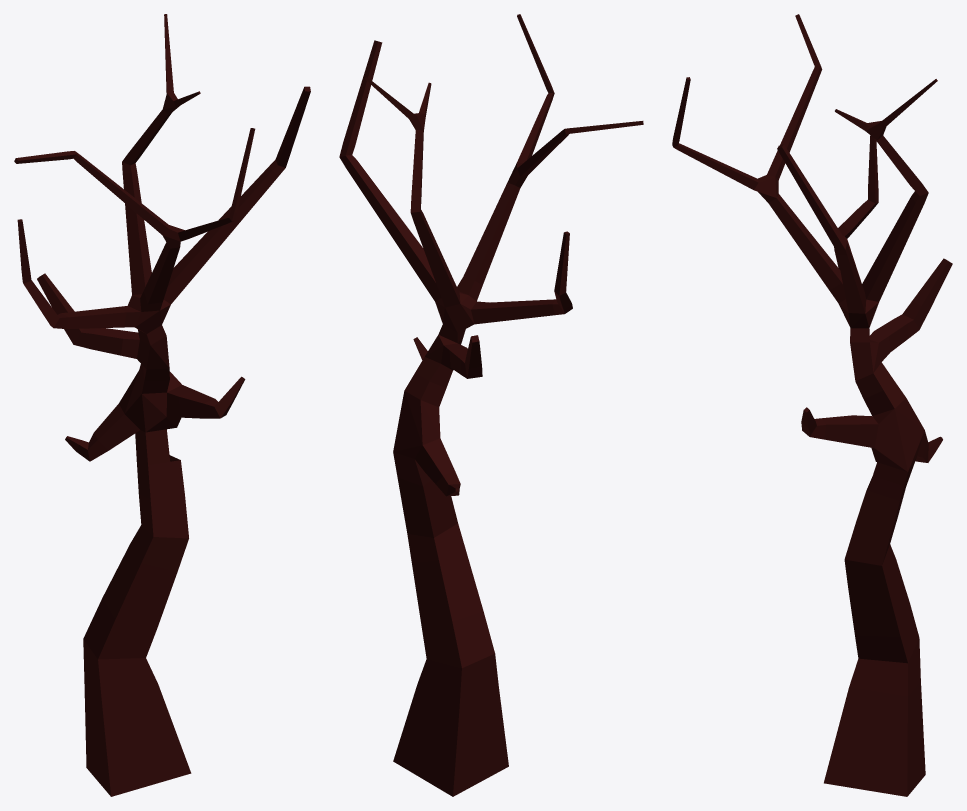
The model's file is Tree1.fbx.
3 renders of one model, left to right at view 1: azimuth 30°, elevation 25°; view 2: azimuth 150°, elevation 25°; view 3: azimuth 270°, elevation 25°, orthographic. The views are drawn at different scales.
Visible parts, largest first — view 1: Cube; view 2: Cube; view 3: Cube.
Part boxes in pixels (left/top/right/bottom): Cube: left=14, top=14, right=310, bottom=796; Cube: left=339, top=14, right=643, bottom=796; Cube: left=672, top=14, right=952, bottom=796.
Size of the model in its own units: 702 by 1677 by 579.
